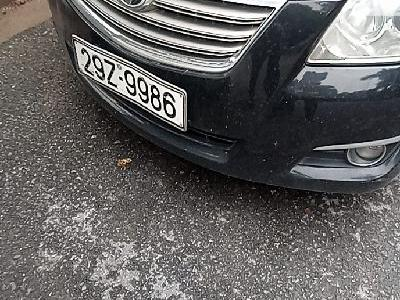lisence: (71, 34, 189, 133)
